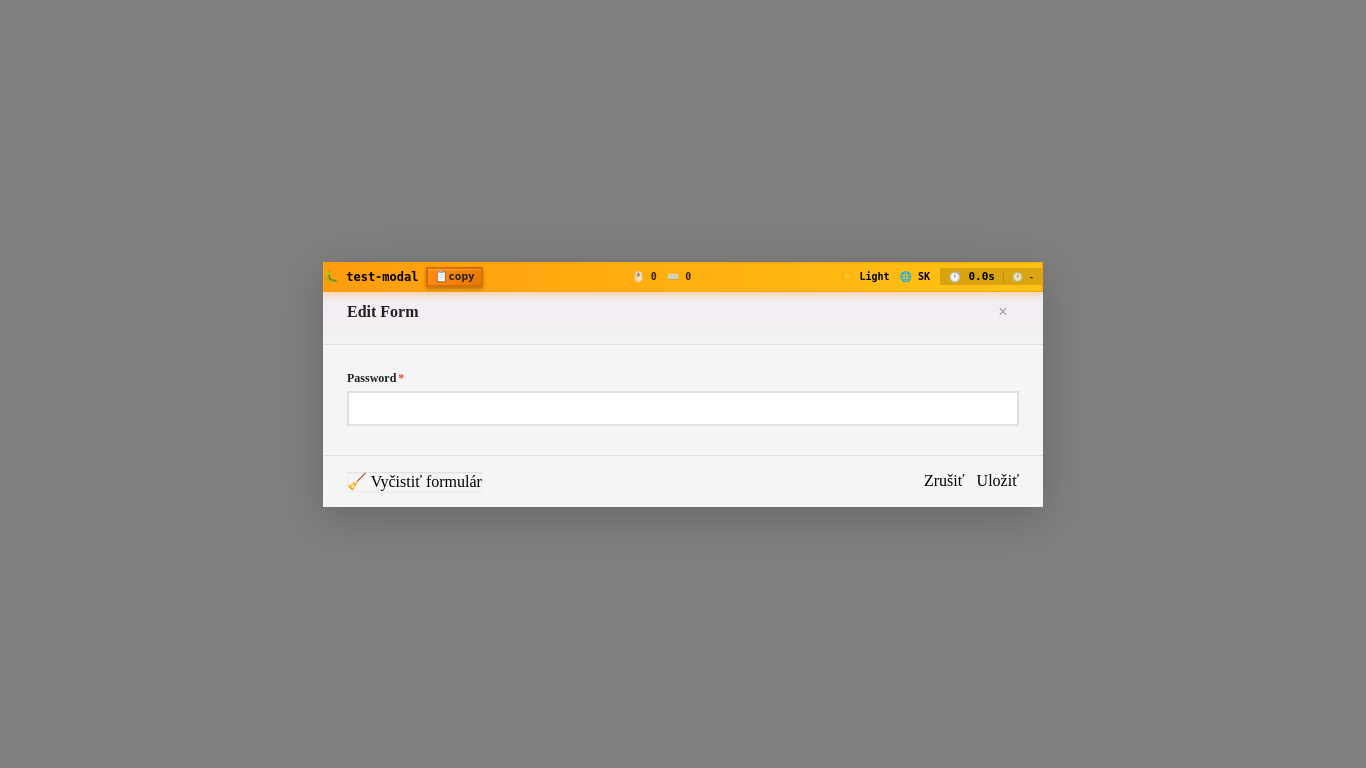
Test: SectionEditModal › Validation › Custom validation error message is displayed
The image size is (1366, 768).
Type "weak" into the field labelled "Password*" at (683, 408), box [347, 390, 1019, 426]
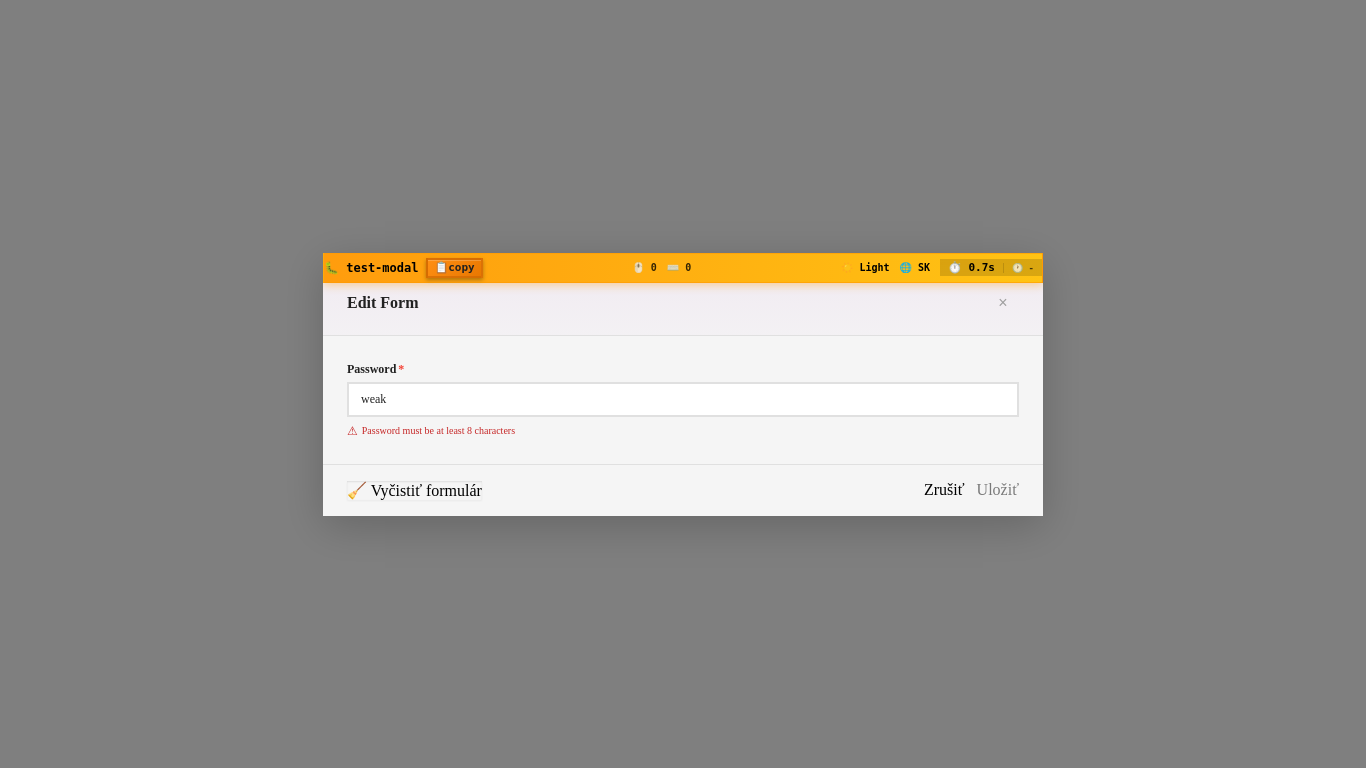
Check: the text "Password must be at least 8 characters" is shown, box [362, 425, 515, 436]
